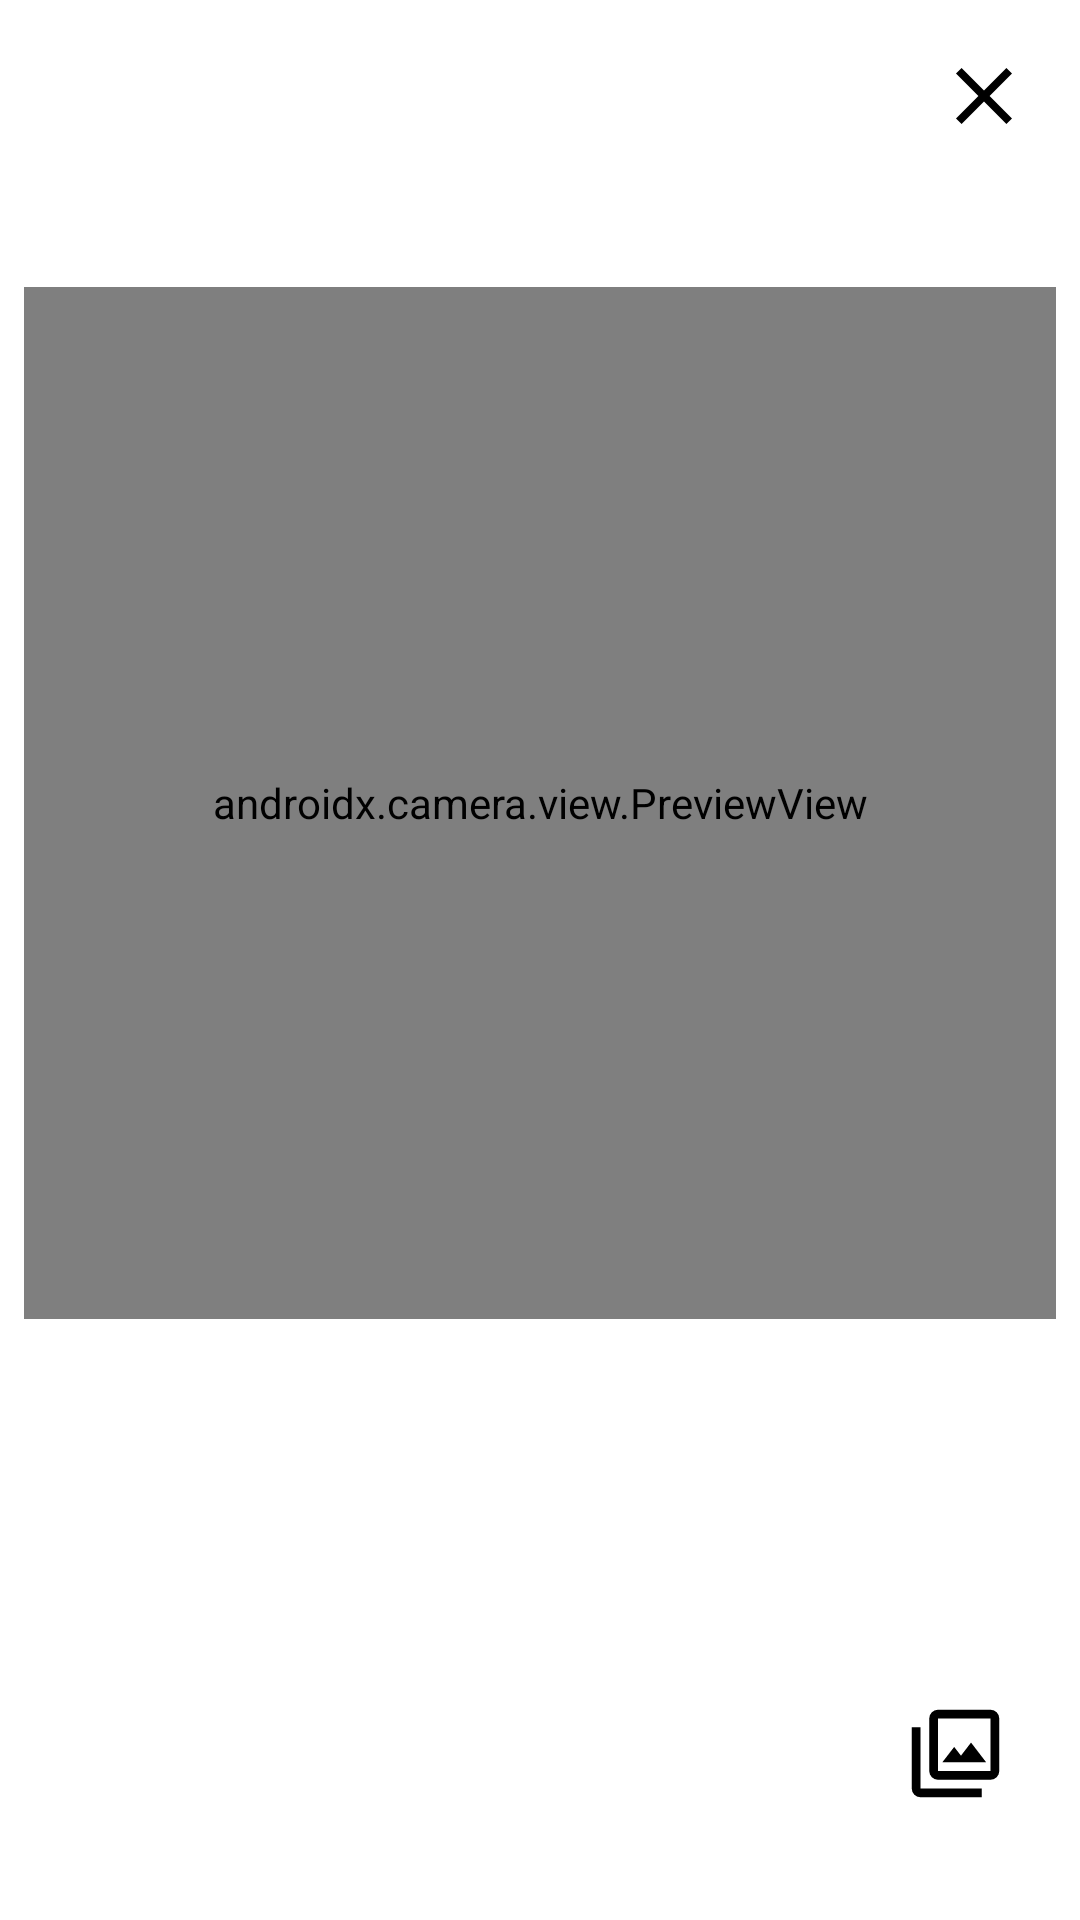

Where to tap for icons on this 1080px x 1920px app screen, as (x,y):
close: (984,96)
Photo Picker: (955,1753)
